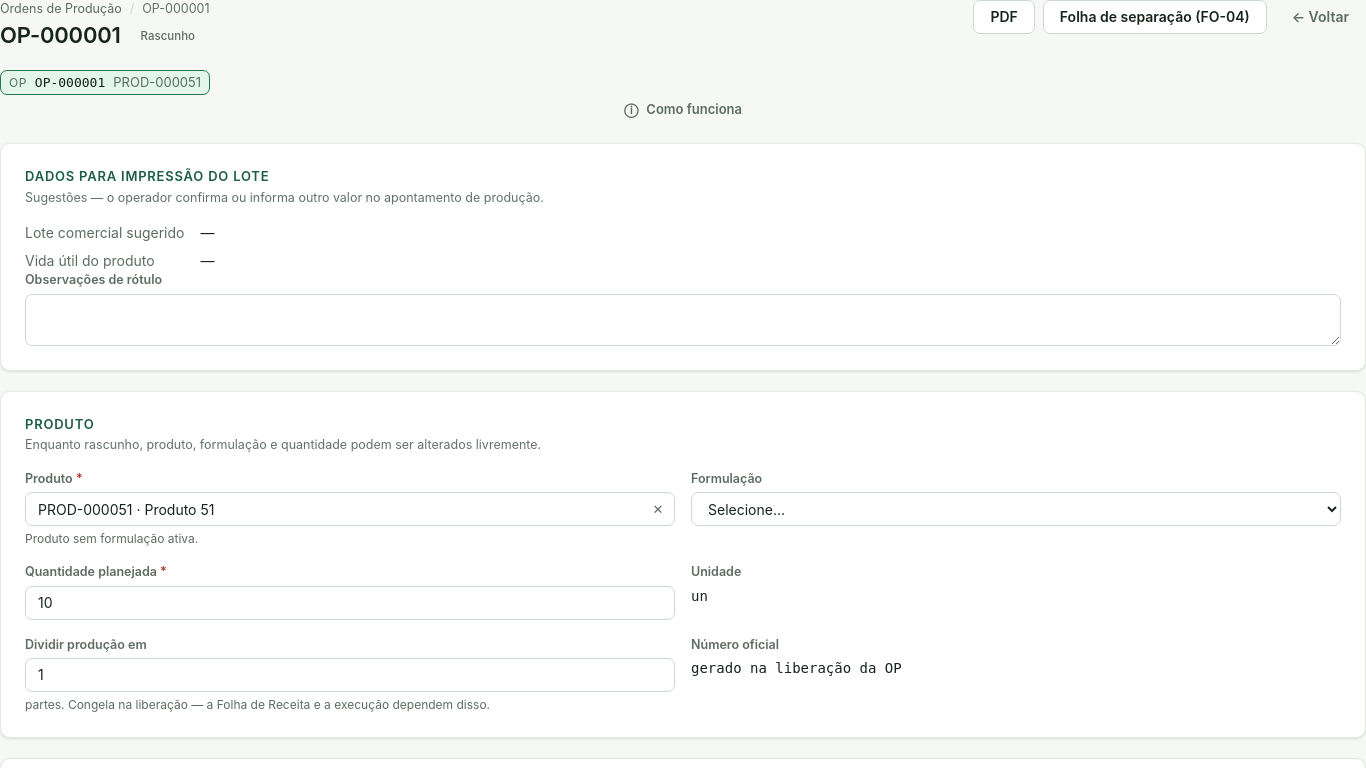
Scenario: OP — troca de produto no rascunho › produto trocado por um achado na busca vale pelo registro escolhido, não pelo da ordem
Step 1. Type "Produto 198" into the dropdown labelled "Produto *" → (350, 509), box [25,492,675,526]
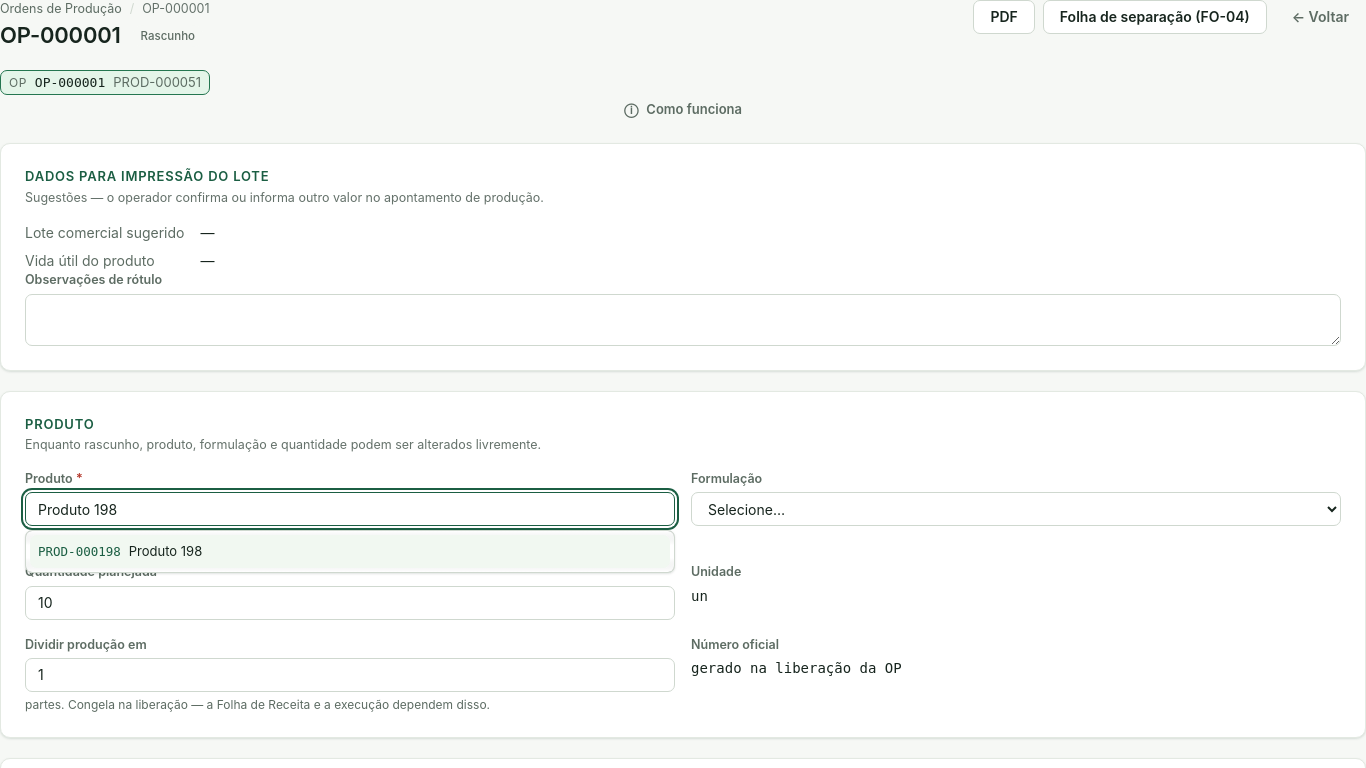
Step 2. Click the text "PROD-000198" → (79, 552), box [38,544,121,560]
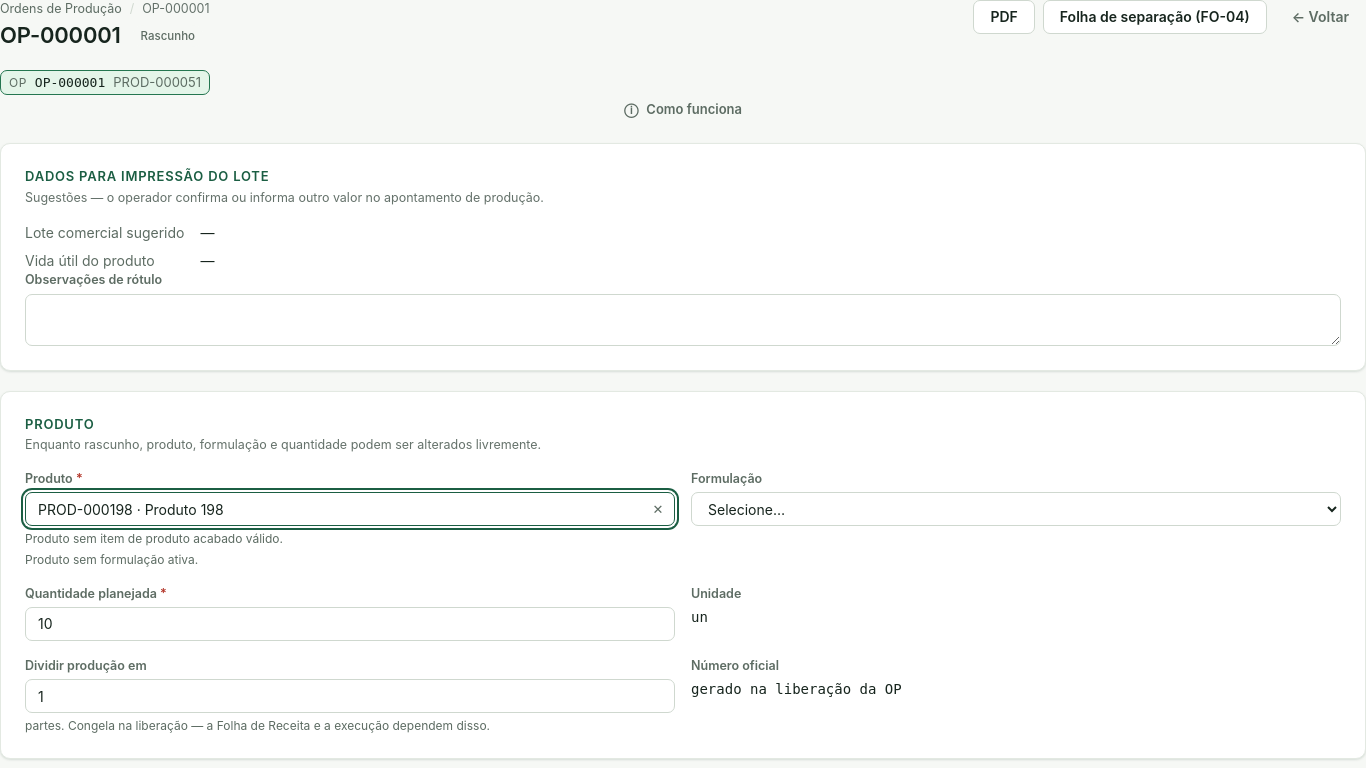
Check: the text "Produto sem item de produto acabado válido." is shown, box [25,531,283,546]
